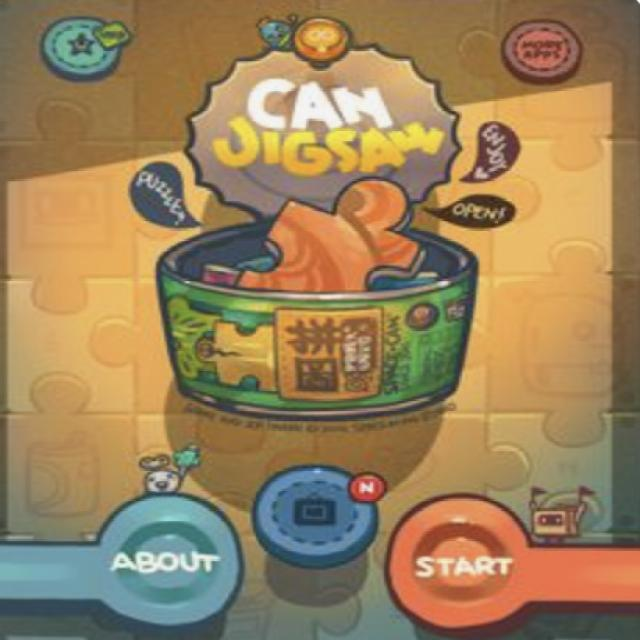Start-button: (402, 499, 524, 622)
